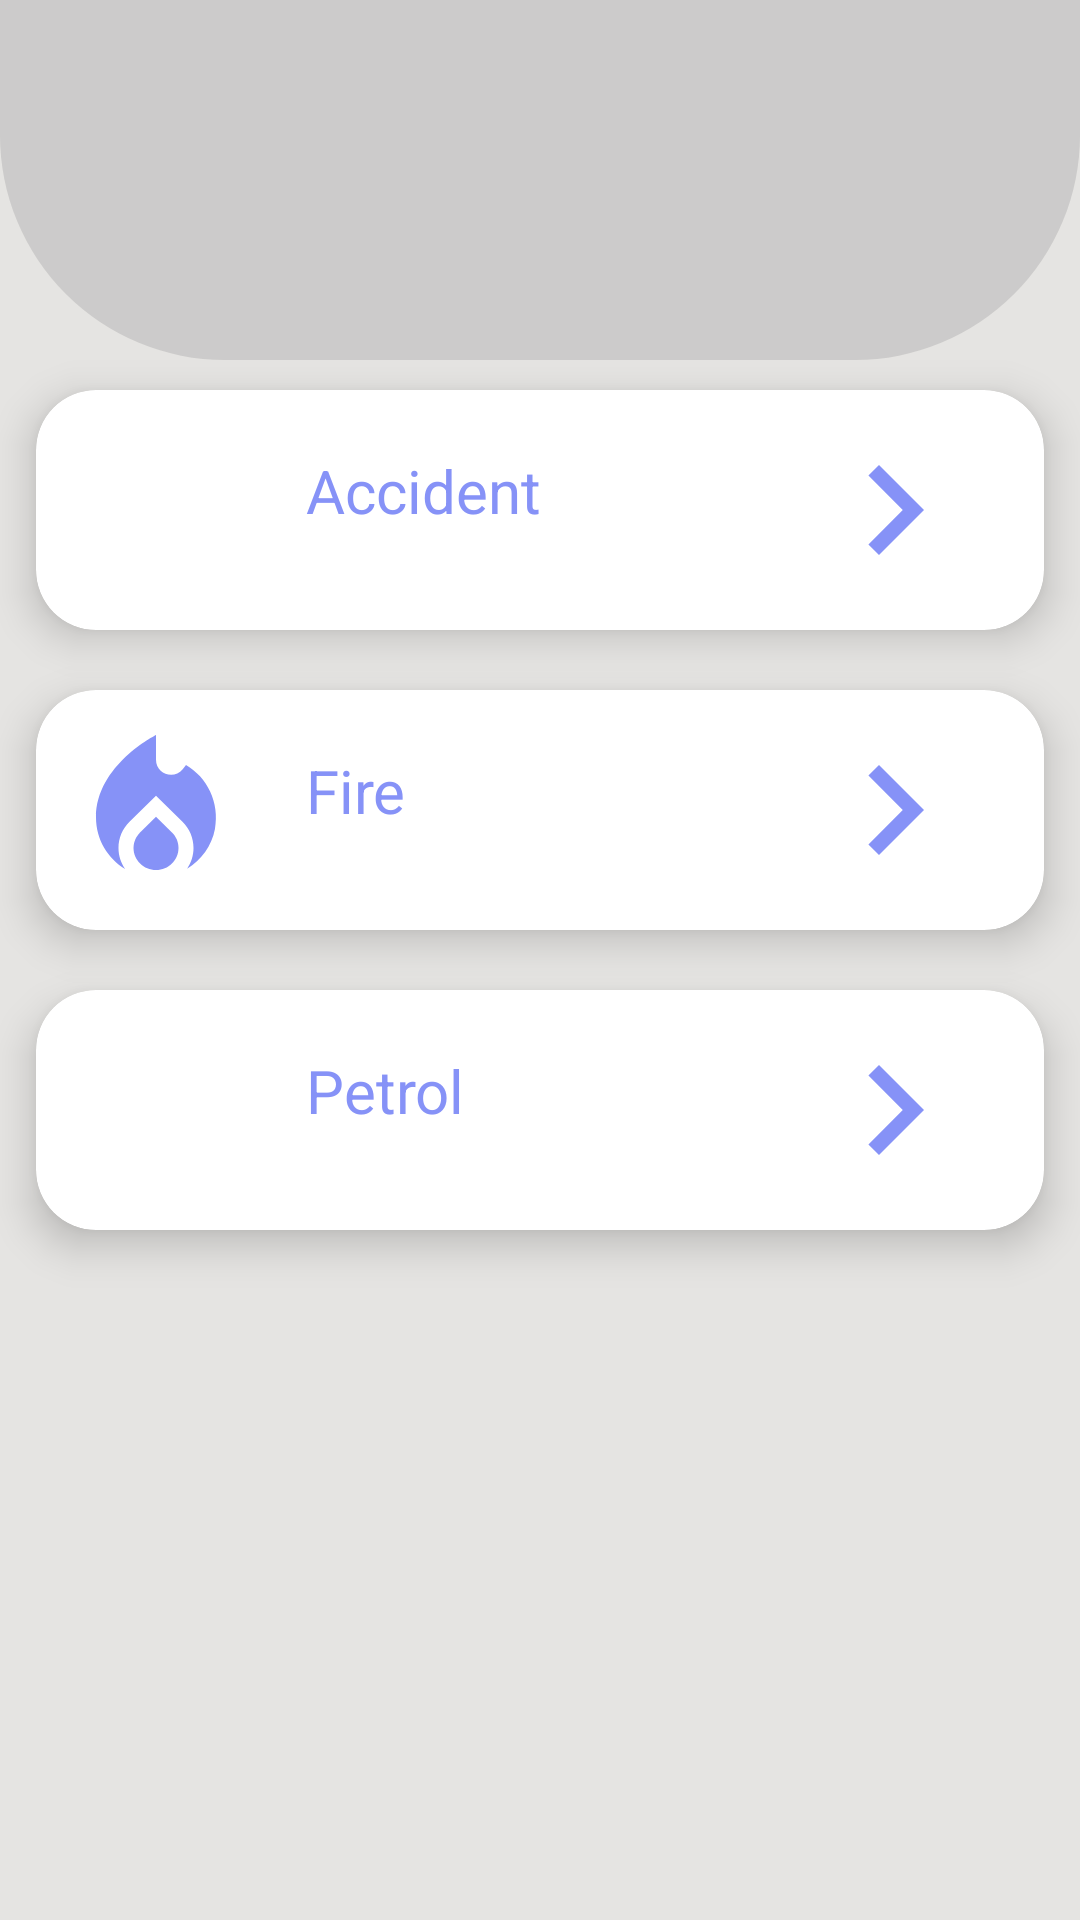

Where icons sit on this 1080w x 1920h app screen, as (x1, y1, x2, y2):
keyboard arrow right: (868, 465, 924, 555), (868, 765, 924, 855), (868, 1065, 924, 1155)
